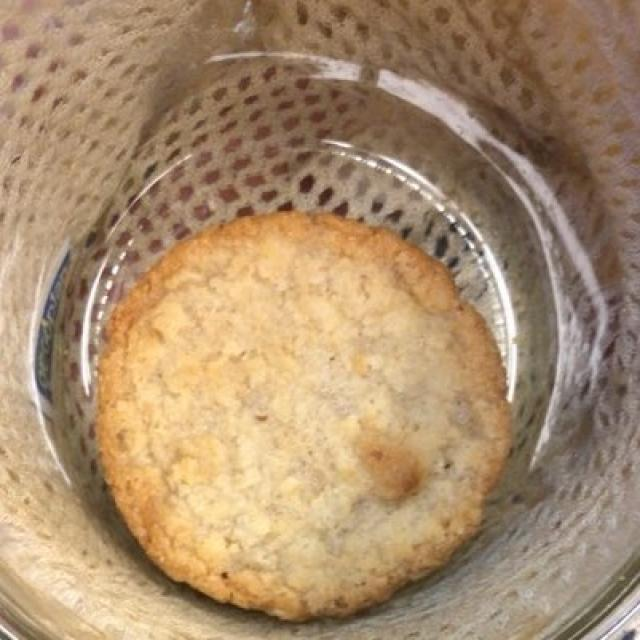biscuit: (100, 220, 507, 610)
